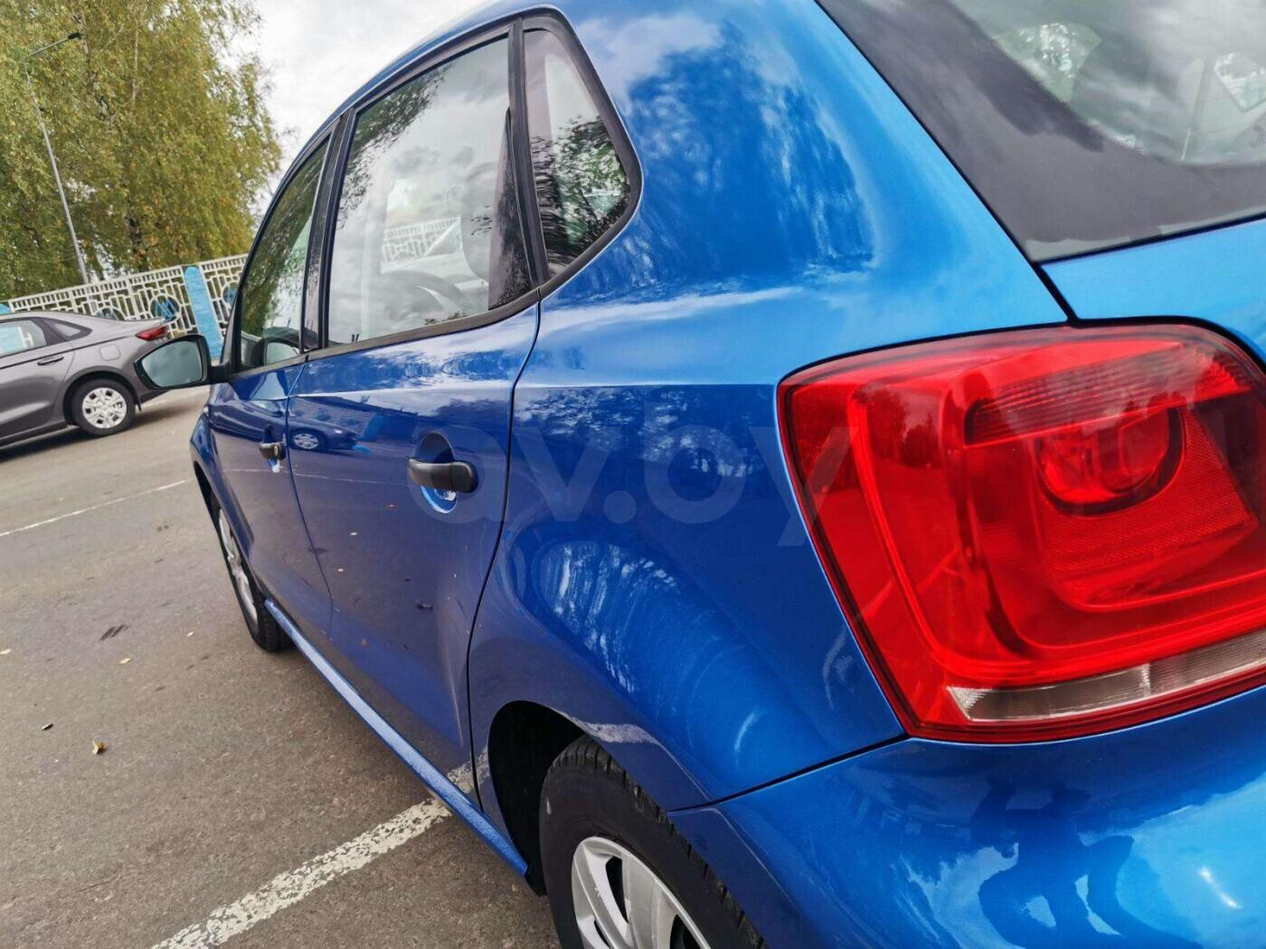Polo_2009-2015: (160, 0, 1266, 949)
